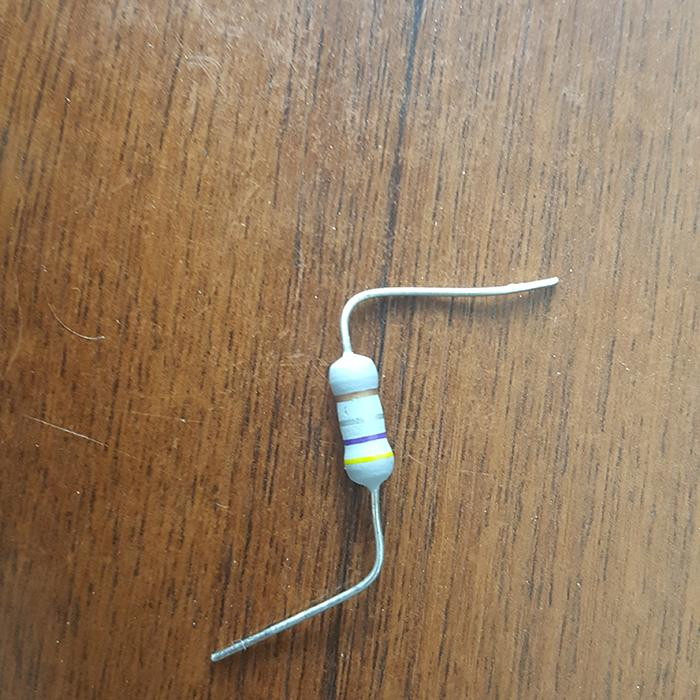resistor: (327, 351, 396, 490)
